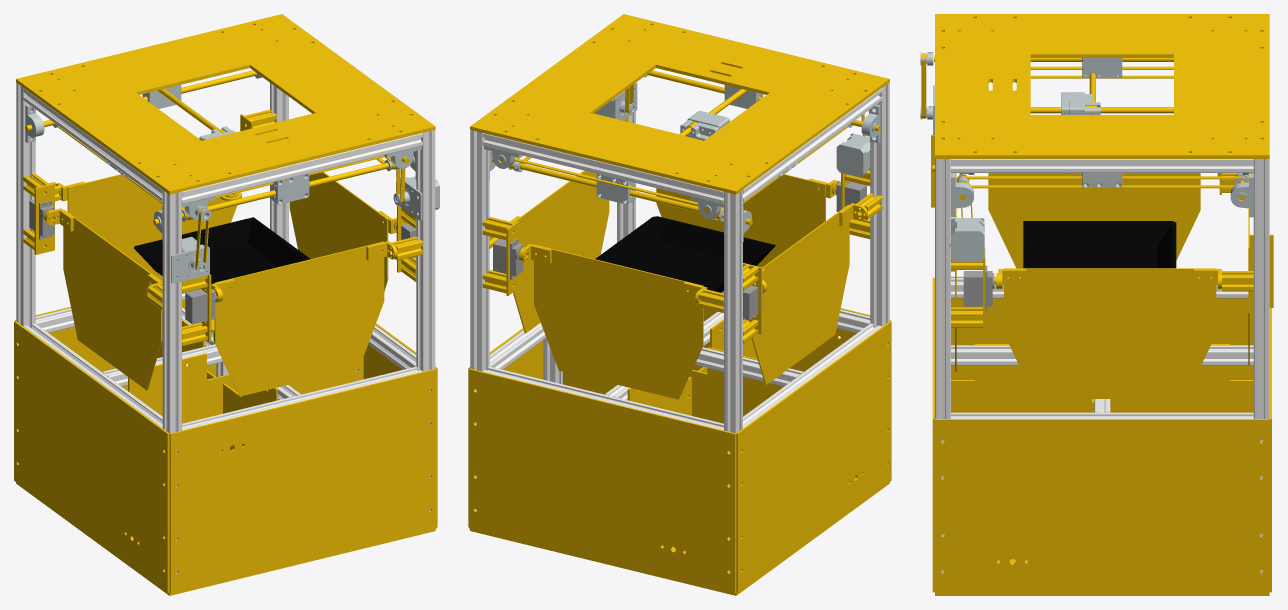
File: 垃圾桶.glb
3 views of the same model, side by side, from view 1: azimuth 30°, elevation 25°; view 2: azimuth 150°, elevation 25°; view 3: azimuth 270°, elevation 25° (orthographic). The views are drawn at different scales.
Parts seen in each view (by area): view 1: Node3, Node6, Node2, Node11, Node12; view 2: Node3, Node6, Node11, Node2, Node12, Node4; view 3: Node3, Node6, Node11, Node2, Node4, Node12.
Boxes of the visible parts, box(x1,y1,x2,y2) form: Node3: box(14, 14, 437, 595); Node6: box(16, 83, 435, 572); Node2: box(25, 74, 439, 283); Node11: box(134, 217, 310, 283); Node12: box(29, 193, 416, 324); Node3: box(468, 14, 891, 595); Node6: box(470, 82, 889, 572); Node11: box(595, 216, 775, 292); Node2: box(484, 75, 880, 241); Node12: box(493, 181, 866, 320); Node4: box(680, 85, 797, 175); Node3: box(921, 14, 1273, 595); Node6: box(935, 159, 1269, 572); Node11: box(1023, 221, 1176, 268); Node2: box(920, 52, 1253, 261); Node4: box(1061, 58, 1122, 114); Node12: box(963, 173, 1219, 311).
Size of the model in its own units: 443 by 610 by 444.
